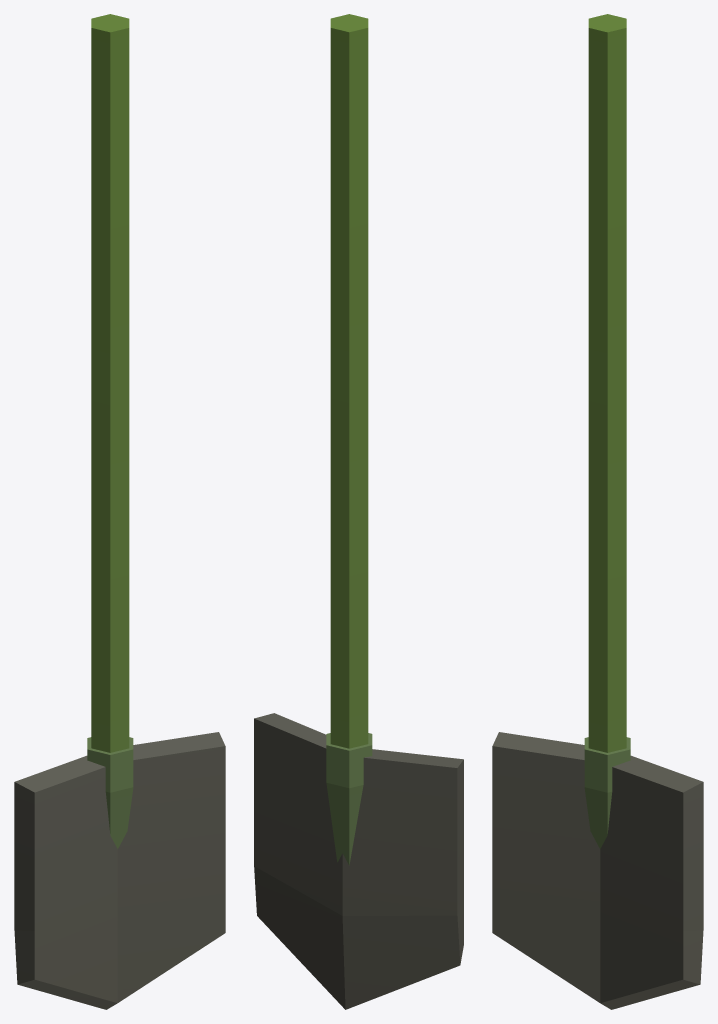
Rendered from Shovel_01.fbx.
The picture shows the model from 3 angles, left to right: view 1: azimuth 30°, elevation 25°; view 2: azimuth 150°, elevation 25°; view 3: azimuth 330°, elevation 25°; orthographic projection.
Parts seen in each view (by area): view 1: Shovel_01; view 2: Shovel_01; view 3: Shovel_01.
Boxes of the visible parts, x1=… form: Shovel_01: x1=14, y1=14, x2=225, y2=1009; Shovel_01: x1=254, y1=14, x2=463, y2=1009; Shovel_01: x1=492, y1=14, x2=703, y2=1009.
Size of the model in its own units: 0.3188 by 1.47 by 0.0847.
